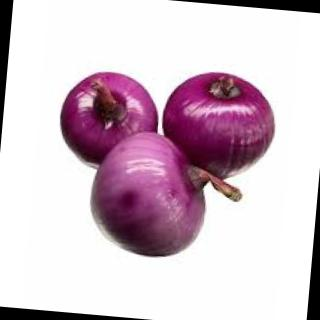Bawang Merah: (84, 127, 250, 267), (157, 66, 283, 186)
